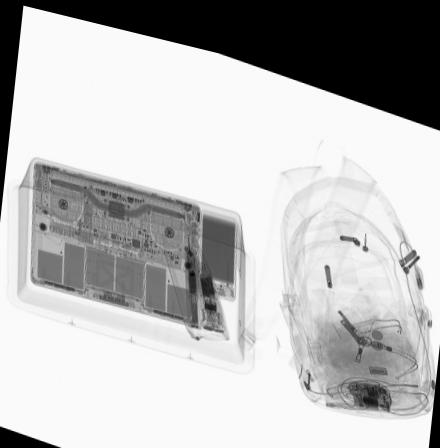Powerbank: (196, 196, 236, 290)
